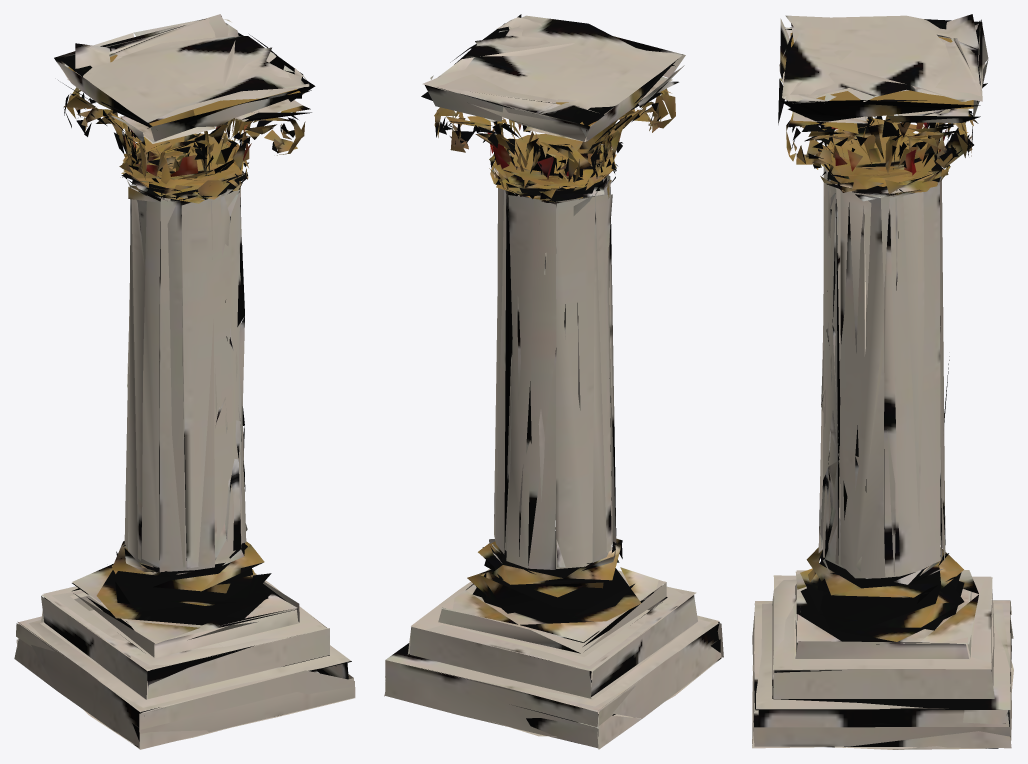
File: town_column_lod.glb
The picture shows the model from 3 angles, left to right: view 1: azimuth 30°, elevation 25°; view 2: azimuth 150°, elevation 25°; view 3: azimuth 270°, elevation 25°; orthographic projection. The views are drawn at different scales.
Parts seen in each view (by area): view 1: world; view 2: world; view 3: world.
Boxes of the visible parts, box(x1,y1,x2,y2) form: world: box(14, 14, 355, 749); world: box(384, 14, 723, 749); world: box(752, 14, 1013, 749).
Size of the model in its own units: 1.94 by 5.28 by 1.94.
Materials: 1 (1 with a texture image).
